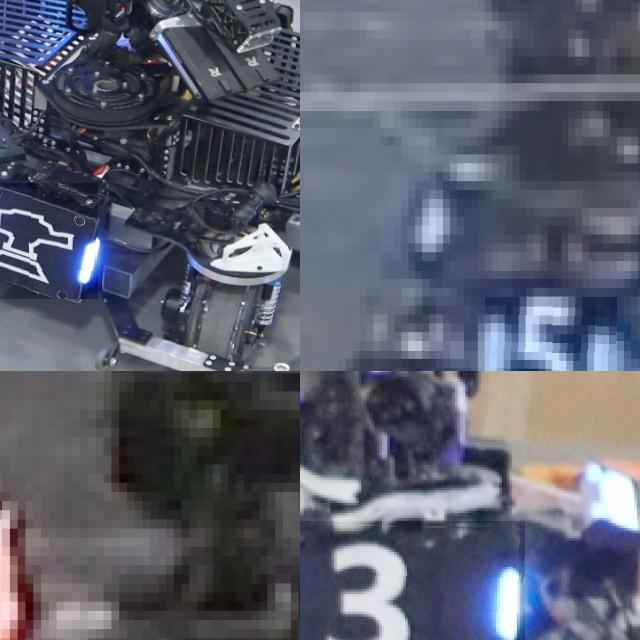B3: (300, 520, 525, 640)
B5: (485, 296, 617, 371)
Bs: (0, 182, 98, 299)
